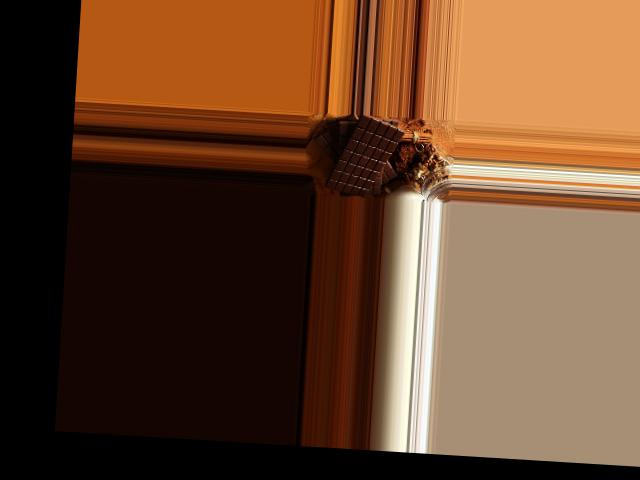chocolate: (323, 112, 410, 196)
